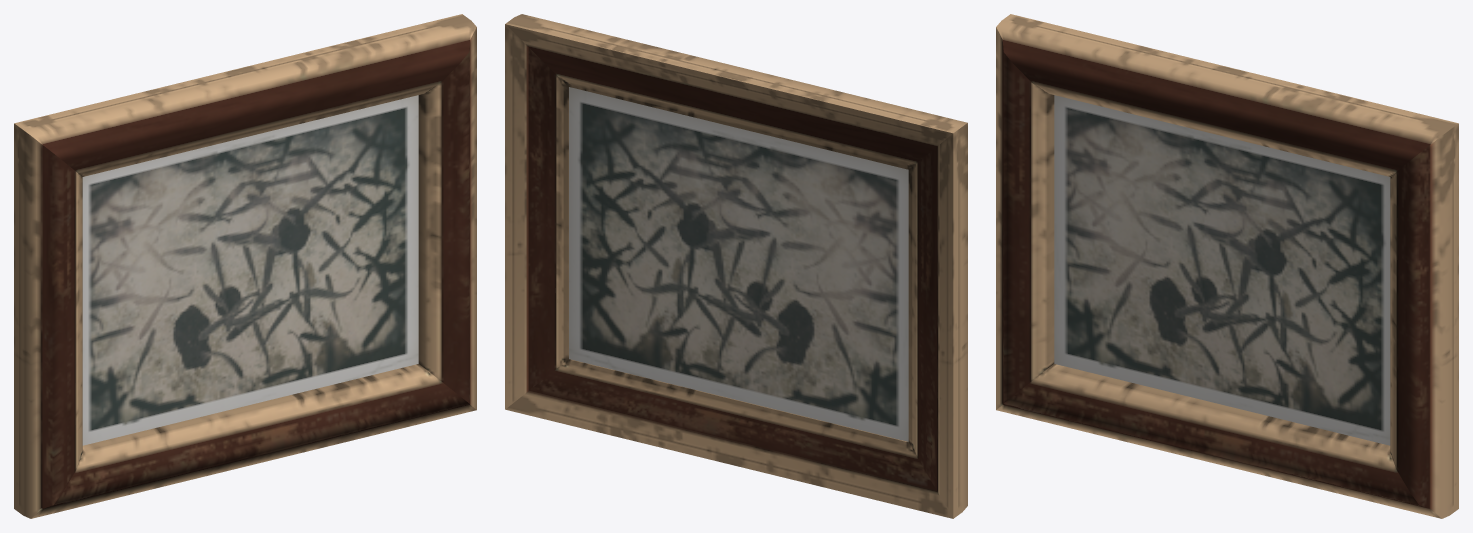
File: Picture_9_Small_Framed.FBX
3 renders of one model, left to right at view 1: azimuth 30°, elevation 25°; view 2: azimuth 150°, elevation 25°; view 3: azimuth 330°, elevation 25°, orthographic.
Visible parts, largest first — view 1: Picture_9_Small_Framed; view 2: Picture_9_Small_Framed; view 3: Picture_9_Small_Framed.
Part boxes in pixels (box(x1,y1,x2,y2)): Picture_9_Small_Framed: box(14, 14, 476, 518); Picture_9_Small_Framed: box(505, 14, 967, 518); Picture_9_Small_Framed: box(996, 14, 1458, 518).
Bounding box in the file's own units: 49.8 × 40.94 × 4.5.
